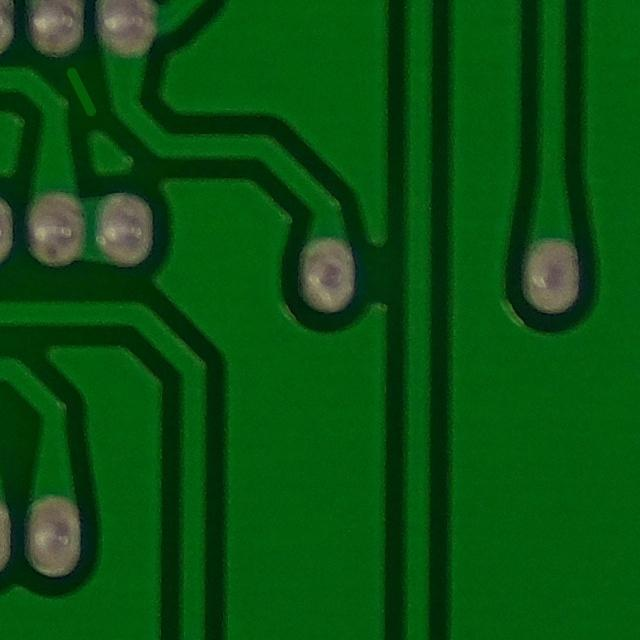spurious_copper: (45, 41, 103, 127)
